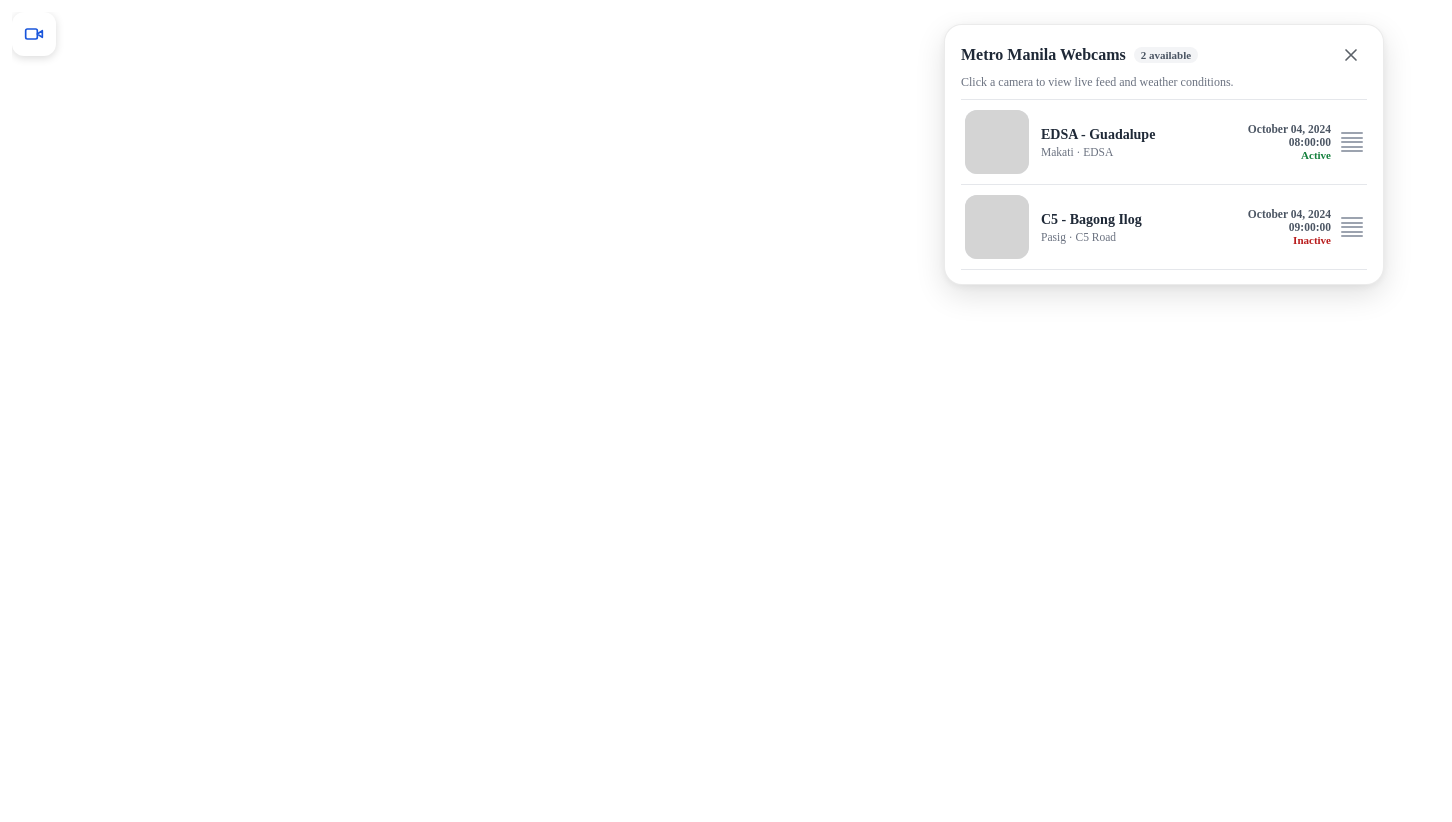
Test: CamButton › fetches full details, weather and loads image ONLY when a specific camera is clicked
The width and height of the screenshot is (1452, 822).
Expected: the text "EDSA - Guadalupe" is shown, [1041, 127, 1155, 142]
Note: Click the first camera
Click the button with test id "cam-item-cam-101" at (997, 142), box [961, 100, 1367, 184]
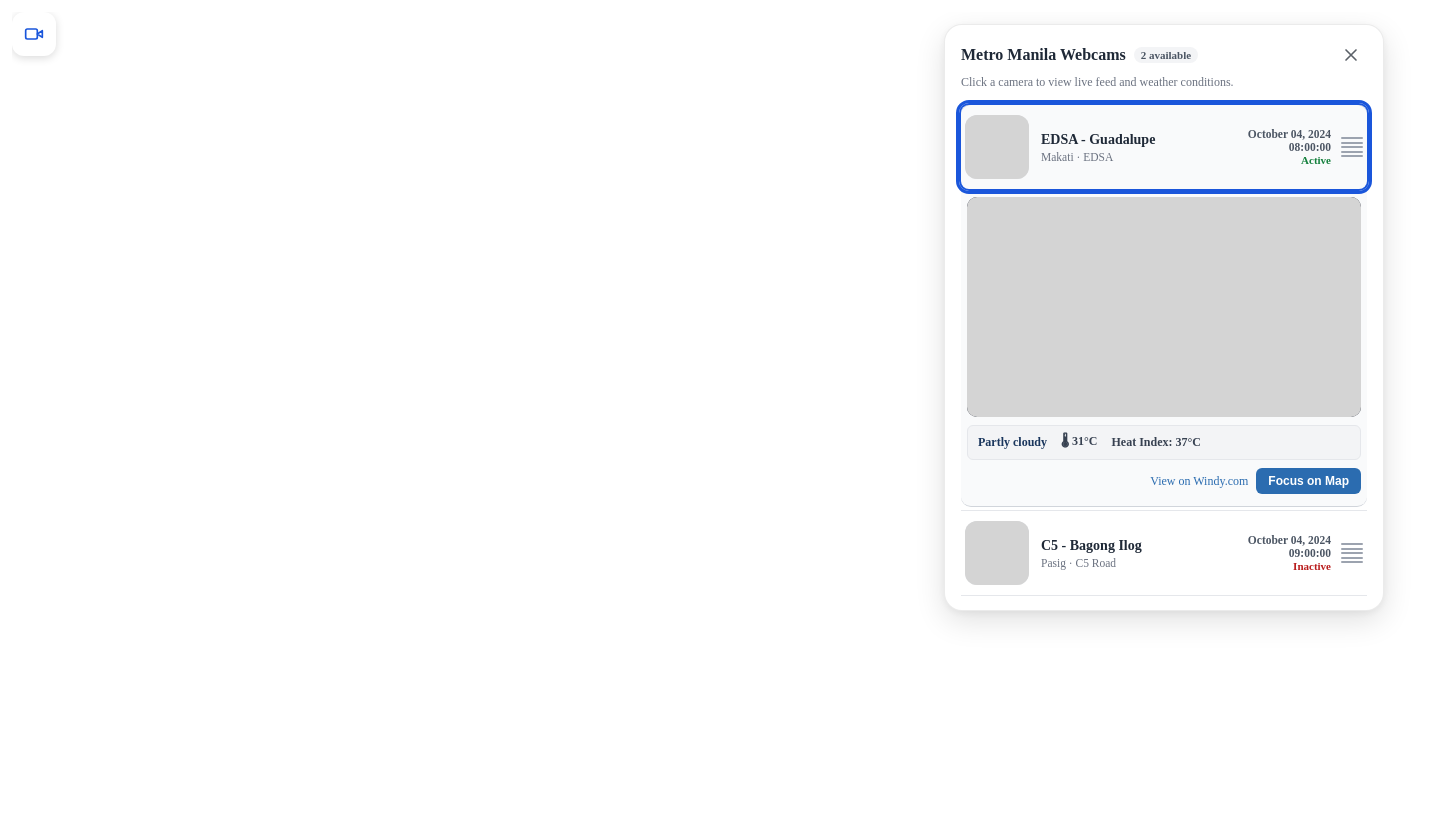
Expected: the text "Partly cloudy" is shown, [978, 435, 1047, 450]
Expected: the text "🌡 31°C" is shown, [1061, 432, 1098, 453]
Expected: the text "Heat Index: 37°C" is shown, [1112, 435, 1201, 450]
